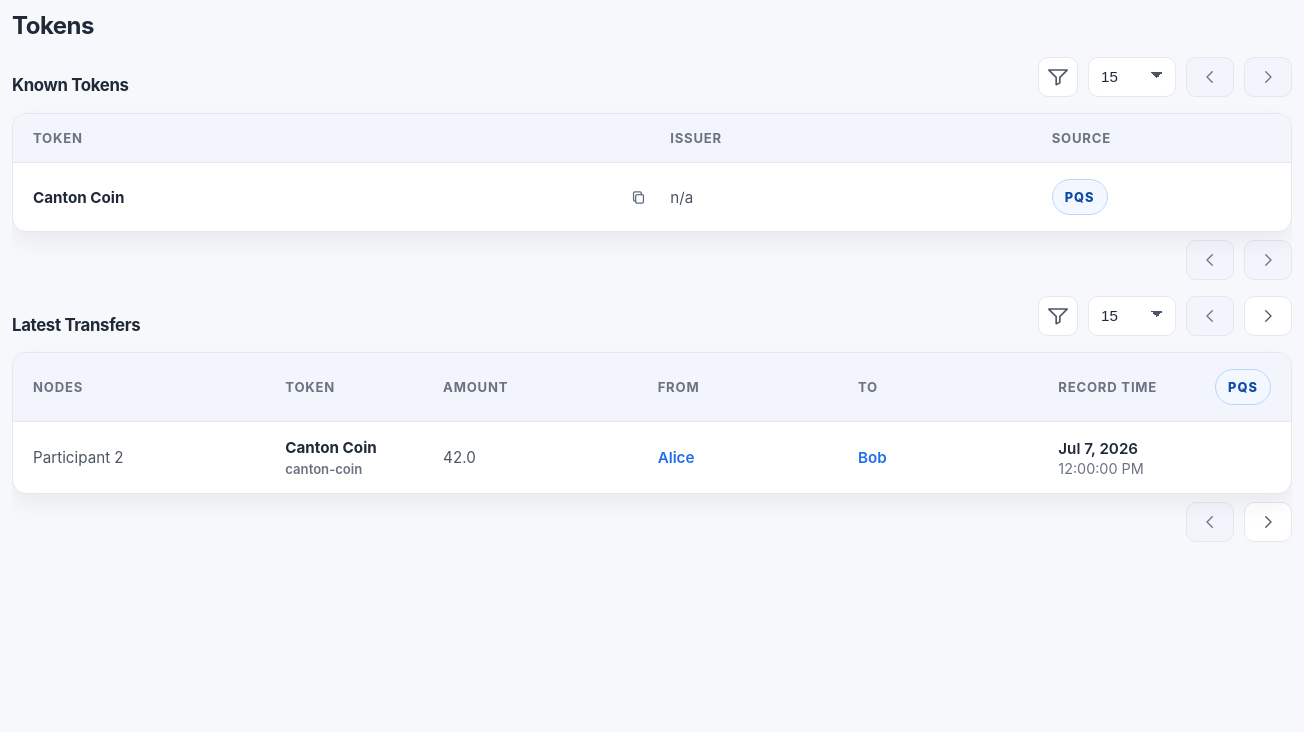
TokensView › paginates the token transfer feed with opaque cursors
Expected: the text "Canton Coin" next to "n/a" is shown, [33,188,124,206]
Expected: the text "Participant 2" is shown, [33,448,124,467]
Click the 4th button named "Older": {"x": 1268, "y": 522} [1244,502,1292,542]
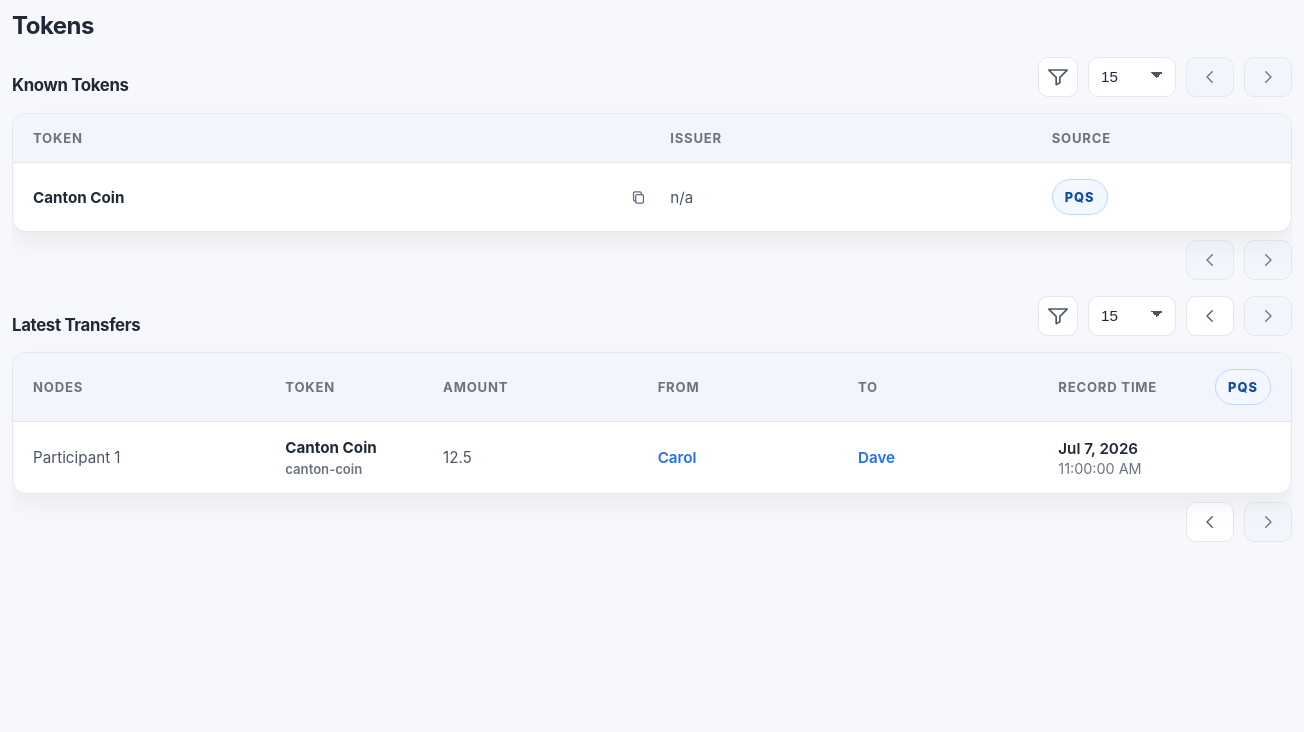
Expected: the text "Participant 1" is shown, [33,448,121,467]
Click the 4th button named "Newer": {"x": 1210, "y": 522} [1186,502,1234,542]
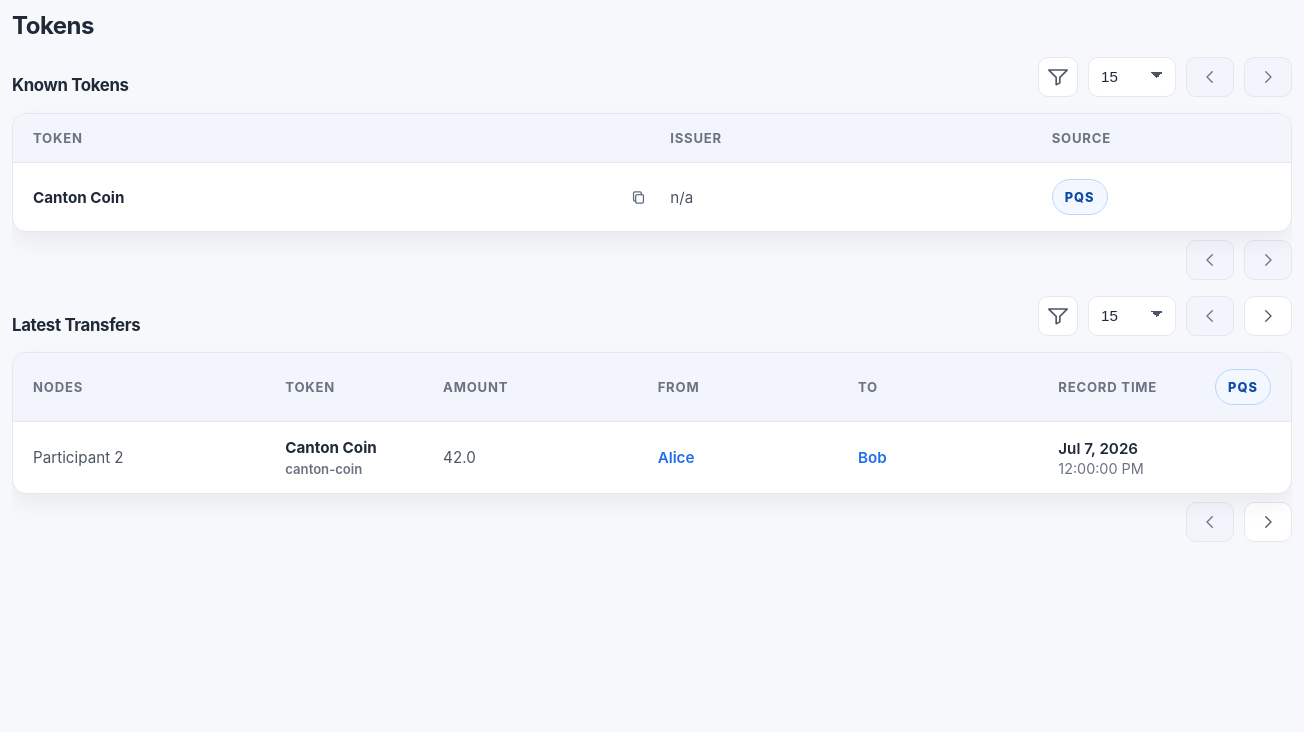
Expected: the text "Participant 2" is shown, [33,448,124,467]
